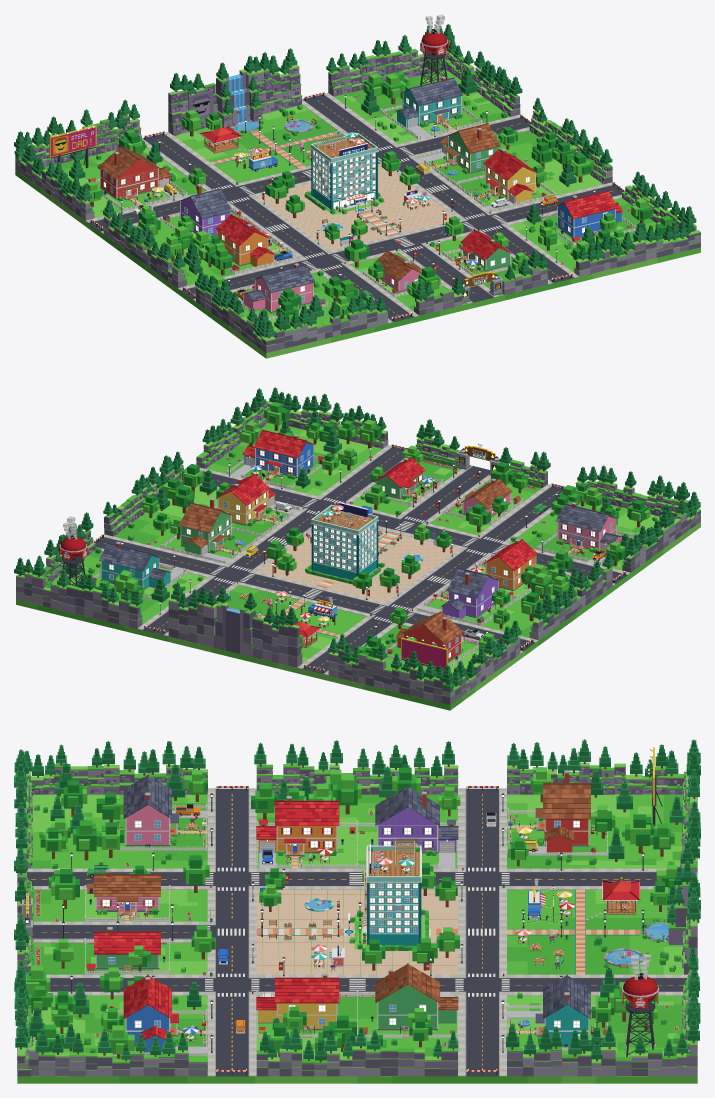
File: GrillMistressDistrict.fbx
3 views of the same model, one above another, from view 1: azimuth 30°, elevation 25°; view 2: azimuth 150°, elevation 25°; view 3: azimuth 270°, elevation 25° (orthographic). The views are drawn at different scales.
Visible parts, largest first — view 1: Roads_Asphalt_2_2_00, Roads_Asphalt_2_1_00, Roads_Asphalt_2_0_00, Roads_Asphalt_1_2_00, Cliffs_PineB_3_0_00, Cliffs_PineB_0_0_00, Plaza_PaverC_2_1_00, Roads_Asphalt_1_3_00, Roads_Asphalt_2_3_00, Terrain_Grass_1_3_00, Plaza_MarbleB_2_1_00, Cliffs_Pine_0_3_00 (+84 smaller); view 2: Roads_Asphalt_2_2_00, Roads_Asphalt_2_0_00, Roads_Asphalt_2_1_00, Roads_Asphalt_1_2_00, Cliffs_RockB_2_3_00, Cliffs_Rock_0_3_00, Roads_Asphalt_1_0_00, Cliffs_PineB_3_0_00, Cliffs_Pine_0_3_00, Cliffs_PineB_0_0_00, Terrain_Grass_1_3_00, Cliffs_RockC_3_3_00 (+81 smaller); view 3: Roads_Asphalt_2_2_00, Roads_Asphalt_2_1_00, Roads_Asphalt_2_0_00, Terrain_GrassB_2_3_00, Terrain_Grass_1_0_00, Terrain_Grass_1_3_00, Terrain_Grass_0_3_00, Plaza_PaverC_2_1_00, Plaza_MarbleB_2_1_00, Plaza_PaverC_1_1_00, Plaza_MarbleB_1_1_00, Cliffs_RockC_3_3_00 (+166 smaller).
Boxes of the visible parts, x1,y1,x2,y2 form: Roads_Asphalt_2_2_00: [89, 118, 530, 231]; Roads_Asphalt_2_1_00: [181, 185, 622, 299]; Roads_Asphalt_2_0_00: [400, 224, 573, 302]; Roads_Asphalt_1_2_00: [228, 196, 328, 259]; Cliffs_PineB_3_0_00: [587, 171, 696, 258]; Cliffs_PineB_0_0_00: [203, 274, 376, 337]; Plaza_PaverC_2_1_00: [362, 193, 452, 232]; Roads_Asphalt_1_3_00: [143, 133, 235, 190]; Roads_Asphalt_2_3_00: [303, 94, 395, 152]; Terrain_Grass_1_3_00: [170, 124, 290, 179]; Plaza_MarbleB_2_1_00: [367, 195, 454, 233]; Cliffs_Pine_0_3_00: [14, 110, 126, 193]; Roads_Asphalt_2_2_00: [94, 509, 534, 651]; Roads_Asphalt_2_0_00: [321, 446, 490, 524]; Roads_Asphalt_2_1_00: [203, 471, 627, 583]; Roads_Asphalt_1_2_00: [388, 548, 487, 611]; Cliffs_RockB_2_3_00: [129, 606, 239, 653]; Cliffs_Rock_0_3_00: [344, 655, 510, 704]; Roads_Asphalt_1_0_00: [480, 485, 563, 543]; Cliffs_PineB_3_0_00: [202, 387, 376, 443]; Cliffs_Pine_0_3_00: [341, 630, 511, 683]; Cliffs_PineB_0_0_00: [587, 465, 700, 543]; Terrain_Grass_1_3_00: [233, 607, 391, 667]; Cliffs_RockC_3_3_00: [16, 541, 128, 626]; Roads_Asphalt_2_2_00: [248, 788, 498, 1076]; Roads_Asphalt_2_1_00: [216, 788, 248, 1076]; Roads_Asphalt_2_0_00: [32, 925, 215, 991]; Terrain_GrassB_2_3_00: [527, 933, 629, 1002]; Terrain_Grass_1_0_00: [17, 860, 187, 924]; Terrain_Grass_1_3_00: [527, 860, 668, 932]; Terrain_Grass_0_3_00: [527, 794, 682, 860]; Plaza_PaverC_2_1_00: [256, 931, 354, 974]; Plaza_MarbleB_2_1_00: [256, 935, 354, 974]; Plaza_PaverC_1_1_00: [256, 889, 354, 930]; Plaza_MarbleB_1_1_00: [256, 889, 354, 928]; Cliffs_RockC_3_3_00: [523, 973, 697, 1076].
Bounding box in the file's own units: 505 × 85.55 × 505.
